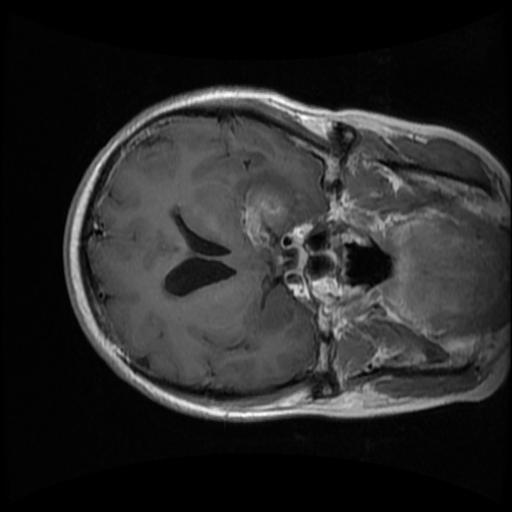glioma: (233, 171, 297, 256)
